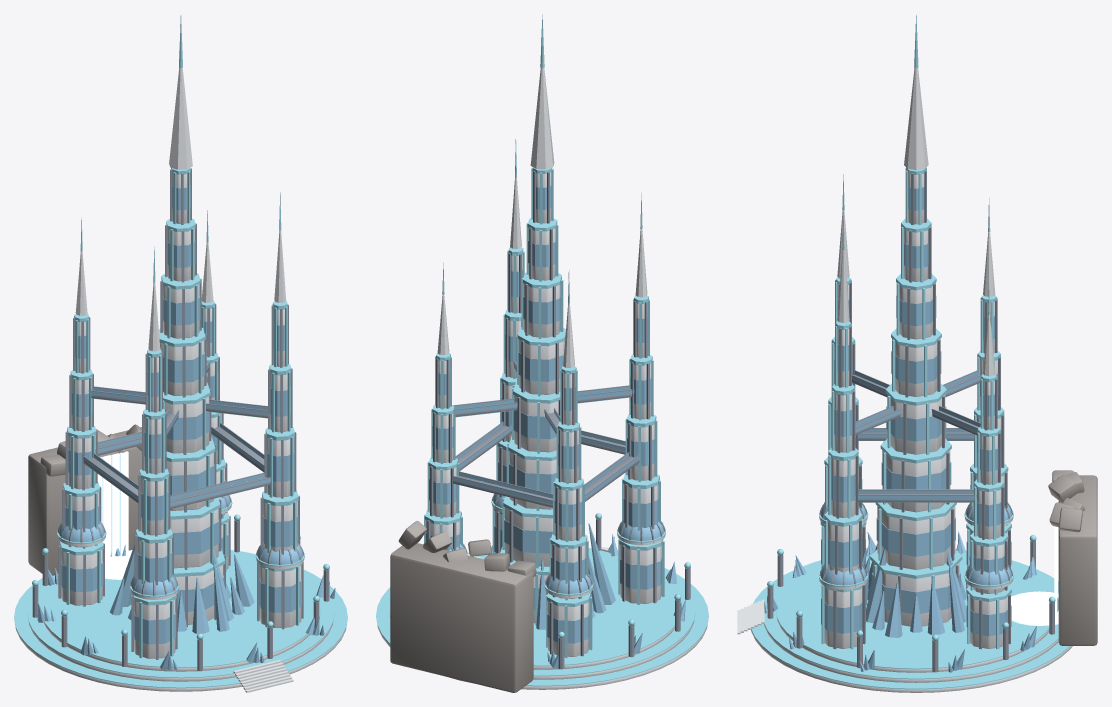
Rendered from Palacio.fbx.
The picture shows the model from 3 angles, left to right: view 1: azimuth 30°, elevation 25°; view 2: azimuth 150°, elevation 25°; view 3: azimuth 270°, elevation 25°; orthographic projection.
Parts seen in each view (by area): view 1: Palacio_Luz, Palacio_Cuerpo, Palacio_Cristal, Palacio_Metal, Palacio_Roca, Palacio_Agua; view 2: Palacio_Luz, Palacio_Roca, Palacio_Cuerpo, Palacio_Cristal, Palacio_Metal; view 3: Palacio_Luz, Palacio_Cuerpo, Palacio_Cristal, Palacio_Metal, Palacio_Roca, Palacio_Agua.
Boxes of the visible parts, box(x1,y1,x2,y2) form: Palacio_Luz: box(14, 15, 347, 688); Palacio_Cuerpo: box(15, 68, 346, 692); Palacio_Cristal: box(37, 185, 335, 670); Palacio_Metal: box(32, 168, 329, 671); Palacio_Roca: box(28, 424, 141, 575); Palacio_Agua: box(97, 451, 132, 579); Palacio_Luz: box(376, 14, 708, 686); Palacio_Roca: box(390, 520, 536, 692); Palacio_Cuerpo: box(377, 68, 707, 689); Palacio_Cristal: box(425, 185, 685, 668); Palacio_Metal: box(423, 171, 690, 669); Palacio_Luz: box(751, 15, 1069, 689); Palacio_Cuerpo: box(737, 68, 1072, 692); Palacio_Cristal: box(764, 187, 1058, 672); Palacio_Metal: box(767, 168, 1054, 672); Palacio_Roca: box(1048, 470, 1097, 645); Palacio_Agua: box(1011, 499, 1058, 625).
Bounding box in the file's own units: 13640 × 27400 × 14706.
